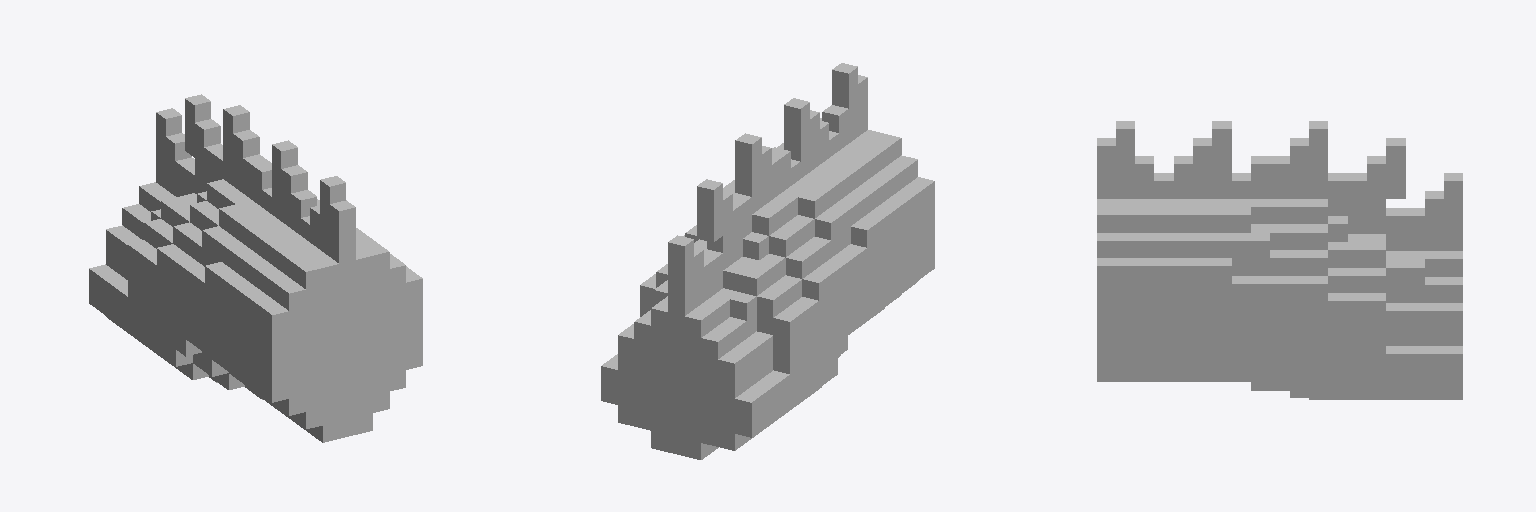
Rendered from LizardMan BOSS tail 2.obj.
The picture shows the model from 3 angles: view 1: azimuth 30°, elevation 25°; view 2: azimuth 150°, elevation 25°; view 3: azimuth 270°, elevation 25°; orthographic projection.
Size of the model in its own units: 9 by 15 by 19.